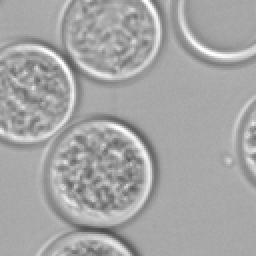picoshell: (42, 114, 158, 230), (56, 0, 164, 82), (0, 36, 80, 144), (170, 0, 256, 68), (35, 226, 142, 256), (232, 96, 256, 186)
